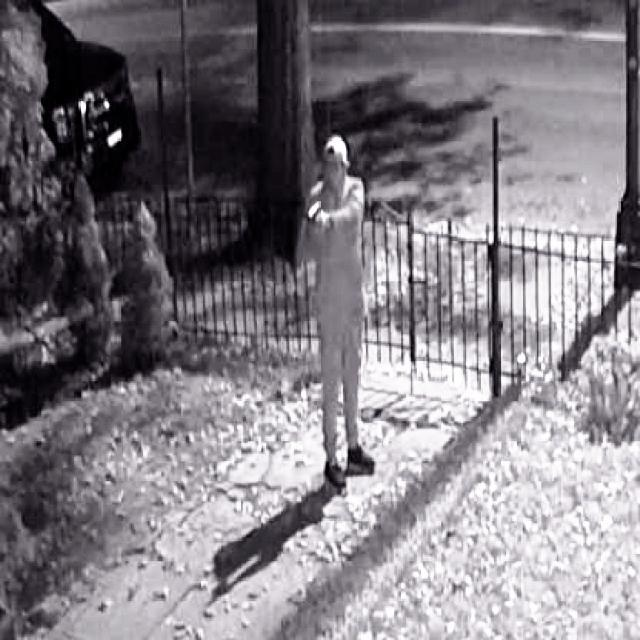Gun: (294, 198, 328, 231)
